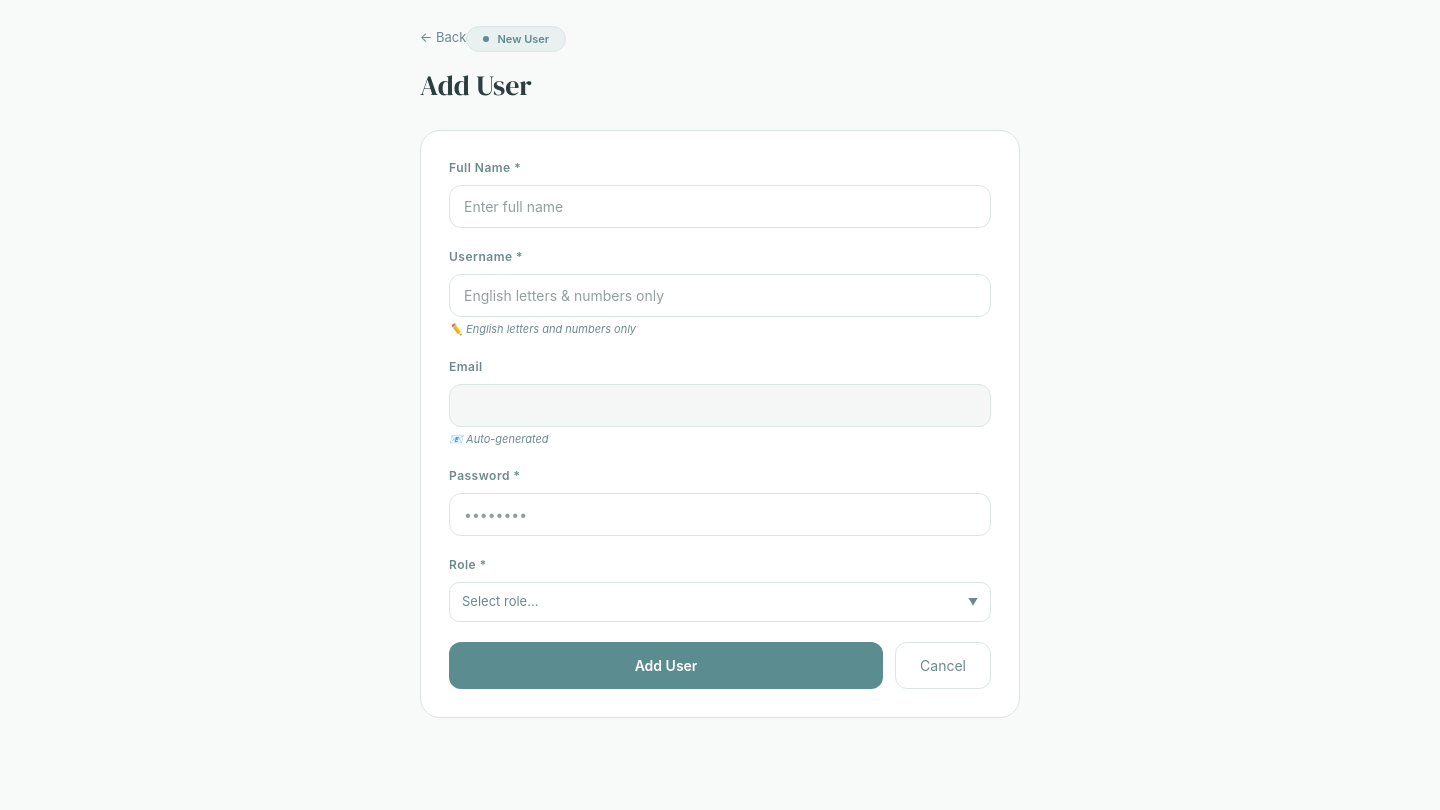
Test: AddUser › requires a full name before submitting
Click the button "Add User". click: (666, 665)
box: top-left (449, 642), bottom-right (883, 689)
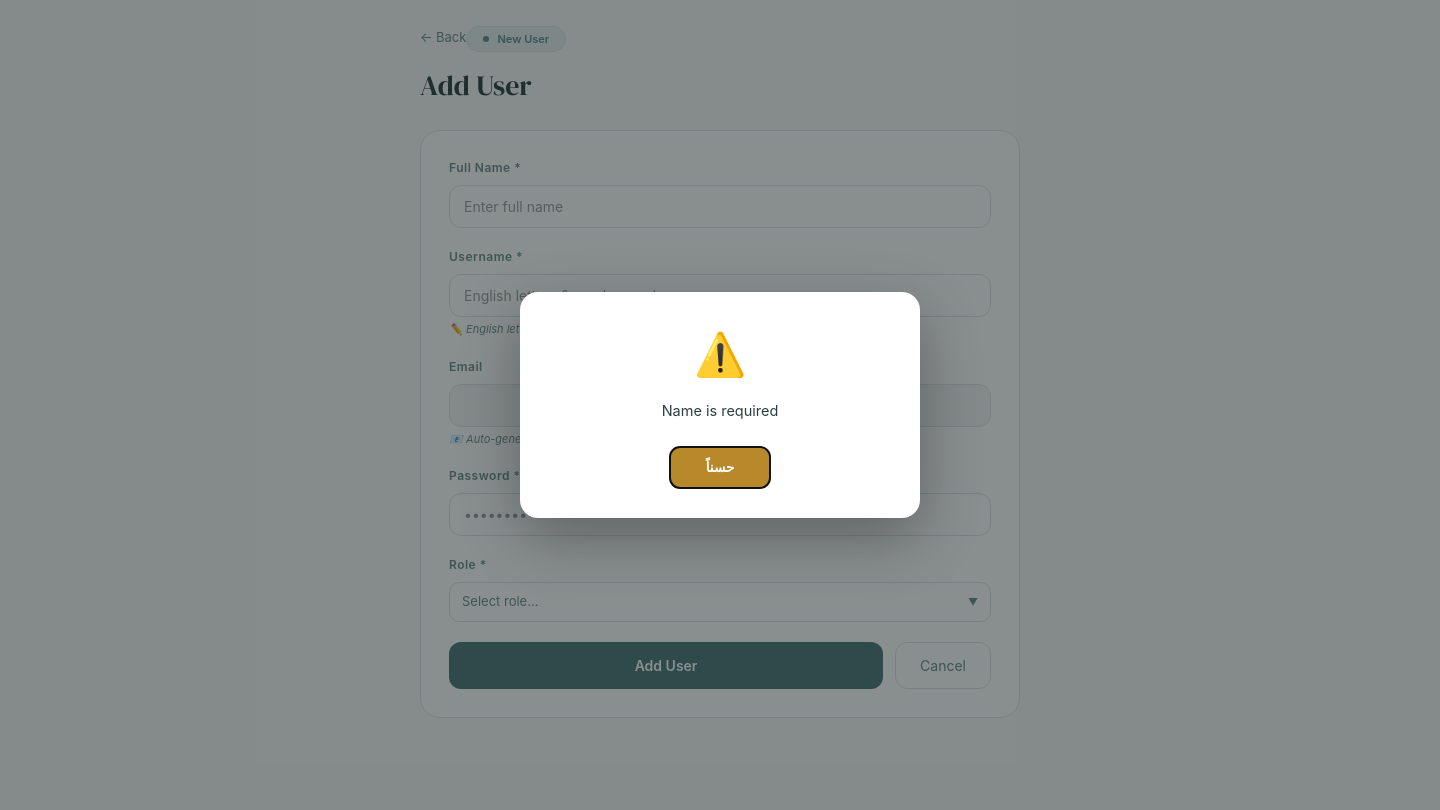
Expected: the text "Name is required" is shown, top-left (662, 402), bottom-right (778, 419)
